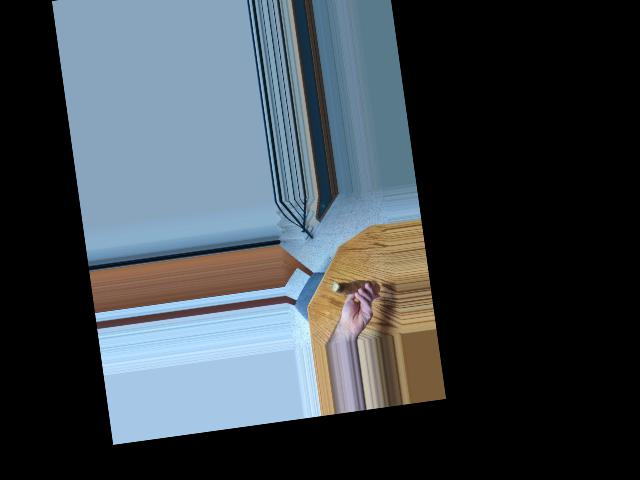sweet_potato: (330, 275, 380, 302)
